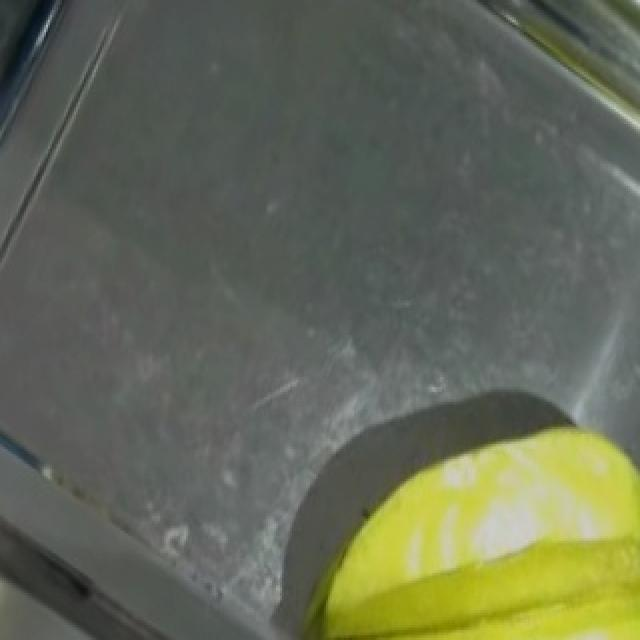fruit: (268, 374, 640, 638)
